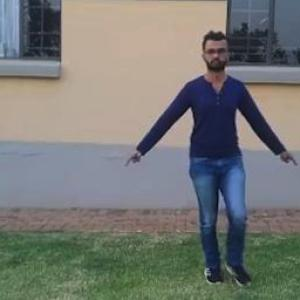land: (144, 52, 287, 250)
